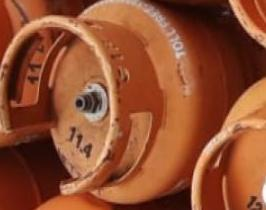cylinder: (1, 1, 266, 210)
